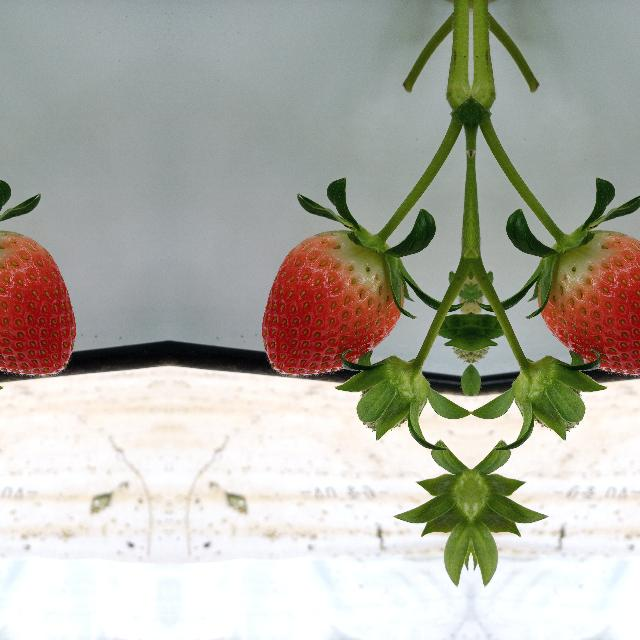Health_100: (260, 231, 404, 377), (536, 231, 640, 377), (0, 231, 76, 377)
